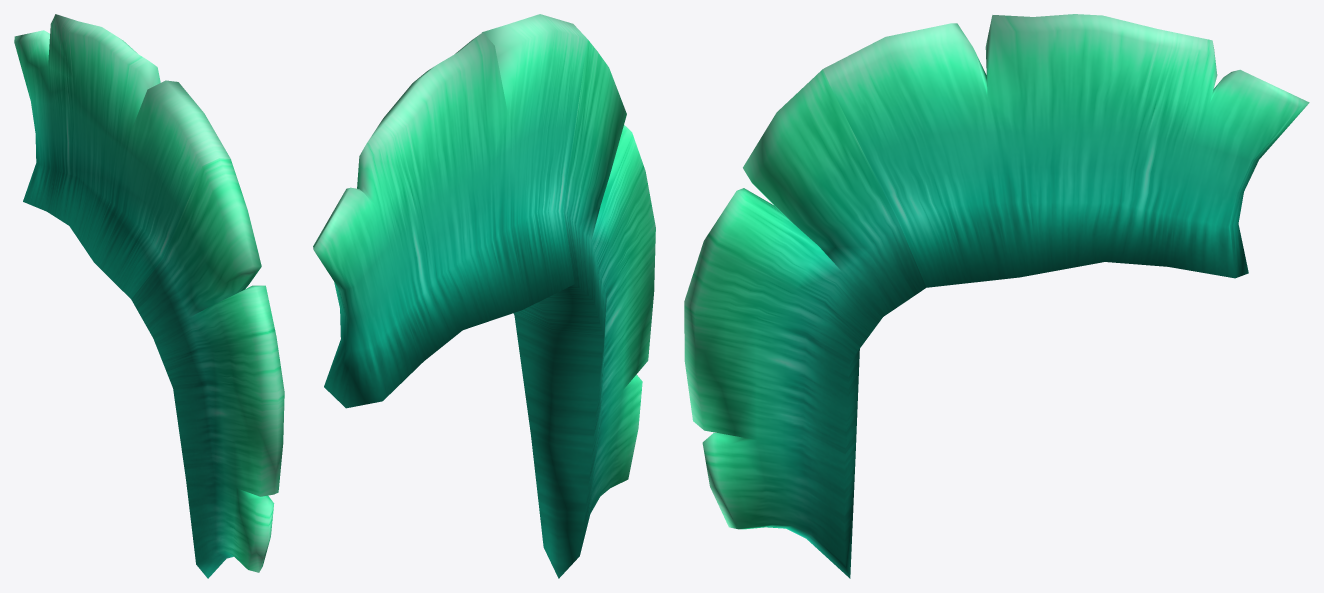
The picture shows the model from 3 angles, left to right: view 1: azimuth 30°, elevation 25°; view 2: azimuth 150°, elevation 25°; view 3: azimuth 270°, elevation 25°; orthographic projection. The views are drawn at different scales.
Parts seen in each view (by area): view 1: Mesh; view 2: Mesh; view 3: Mesh.
Boxes of the visible parts, <box> form: Mesh: <box>14,14,284,578</box>; Mesh: <box>313,14,655,578</box>; Mesh: <box>684,14,1309,578</box>.
Size of the model in its own units: 0.3193 by 1.62 by 1.63.
